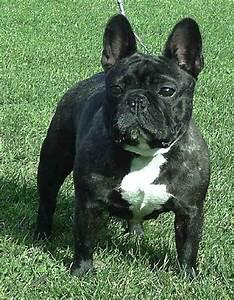dog: (32, 12, 211, 281)
